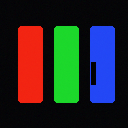4 line_v: (91, 62, 95, 84)
